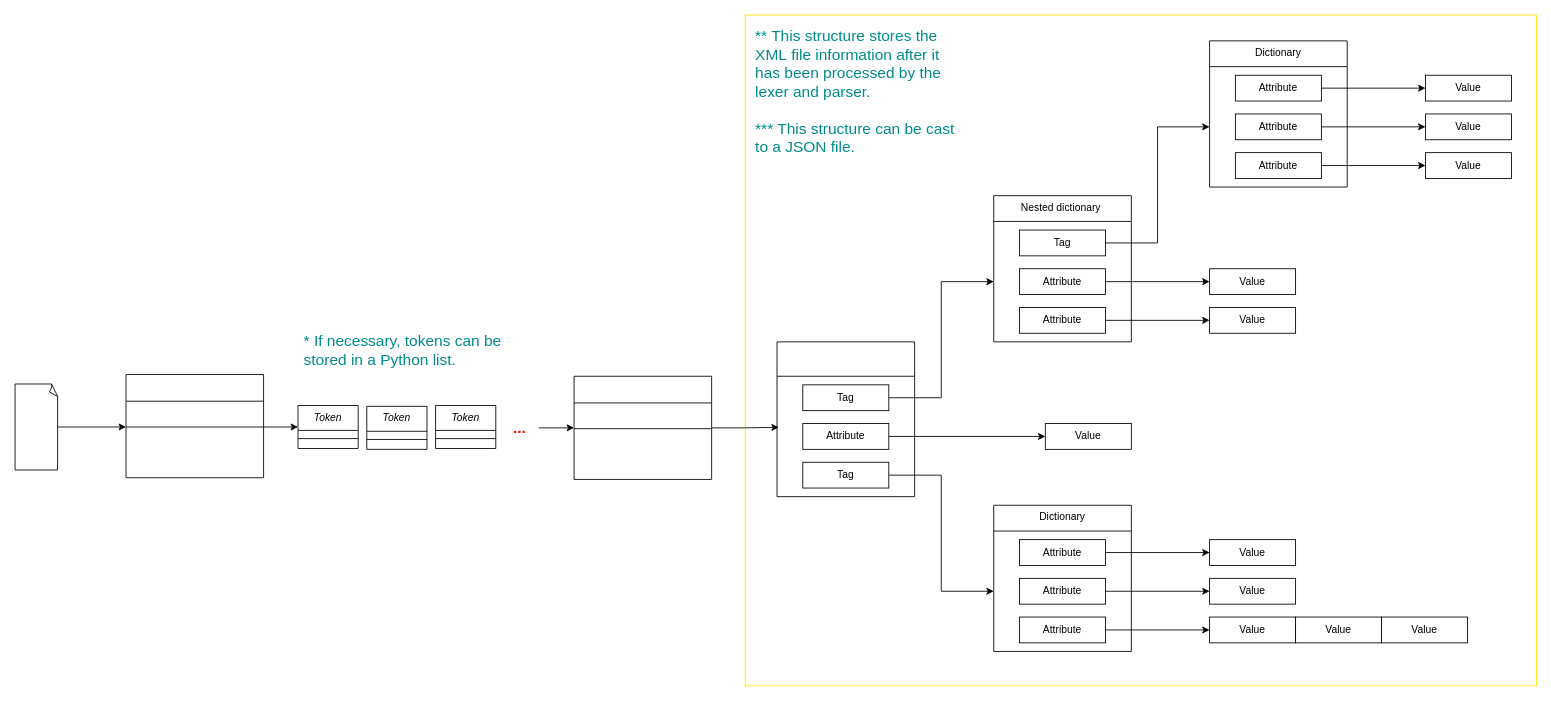
Some shapes in this 1551 by 701 pixel diagram are drawn without their labels. The box of each missing label's shape, as (x1, y1, x2, y2) in pixels:
.XML: (14, 383, 58, 470)
<Data Structure> Nested dictionary: (776, 341, 915, 497)
Lexer: (125, 374, 264, 478)
Parser: (573, 375, 712, 479)
